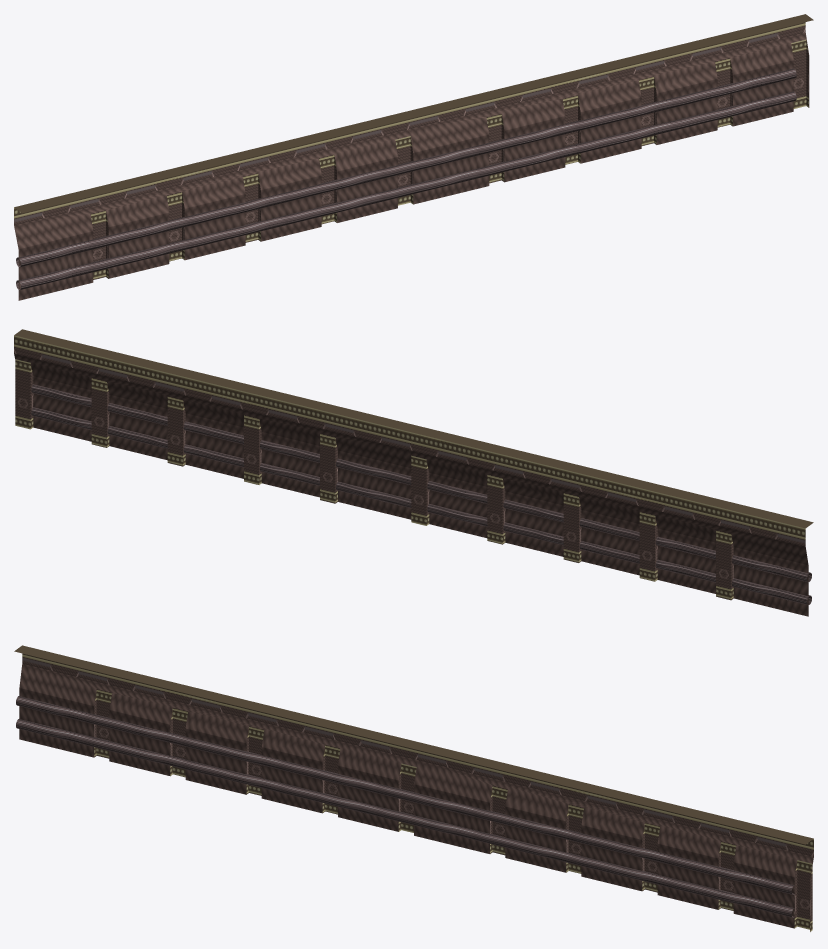
File: Wall_50x50.glb
The picture shows the model from 3 angles, top to bottom: view 1: azimuth 30°, elevation 25°; view 2: azimuth 150°, elevation 25°; view 3: azimuth 330°, elevation 25°; orthographic projection.
Parts seen in each view (by area): view 1: Wall.002; view 2: Wall.002; view 3: Wall.002.
Part boxes in pixels (left/top/right/bottom): Wall.002: left=14, top=14, right=813, bottom=300; Wall.002: left=14, top=329, right=813, bottom=616; Wall.002: left=14, top=645, right=813, bottom=931.
Size of the model in its own units: 50 by 5.5 by 0.9039.
Materials: 2 (2 with a texture image).
